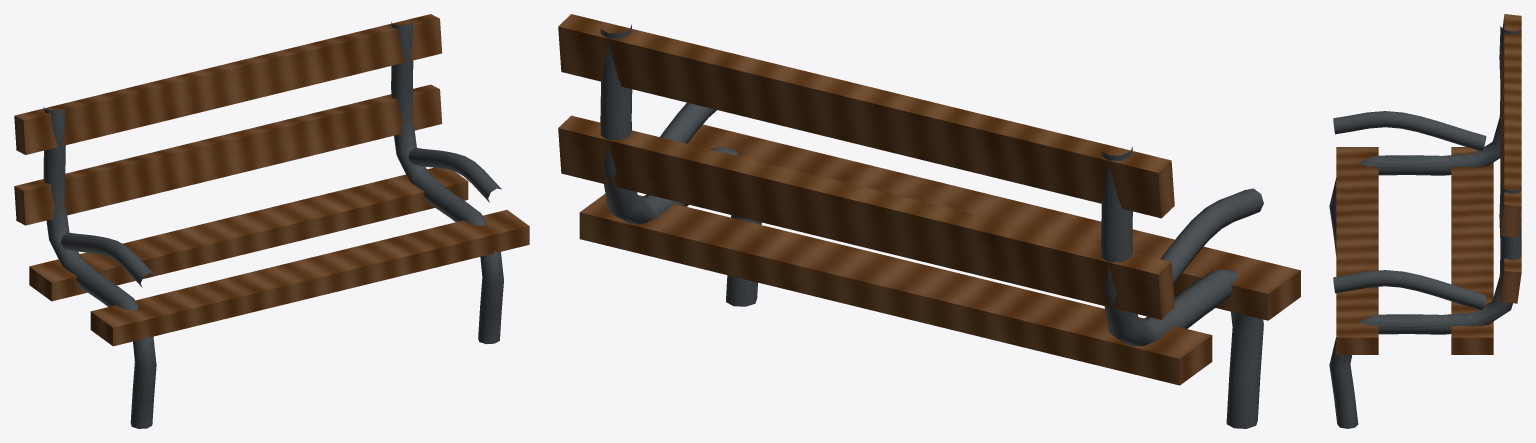
The model's file is street-bench-slat.lod1.gltf.
3 views of the same model, side by side, from view 1: azimuth 30°, elevation 25°; view 2: azimuth 150°, elevation 25°; view 3: azimuth 270°, elevation 25° (orthographic). The views are drawn at different scales.
Parts seen in each view (by area): view 1: street-bench-slat; view 2: street-bench-slat; view 3: street-bench-slat.
Boxes of the visible parts, x1,y1,x2,y2 form: street-bench-slat: [14, 14, 529, 428]; street-bench-slat: [558, 14, 1300, 428]; street-bench-slat: [1329, 14, 1521, 428].
Size of the model in its own units: 2.35 by 1.38 by 1.
Materials: 2 (2 with a texture image).
